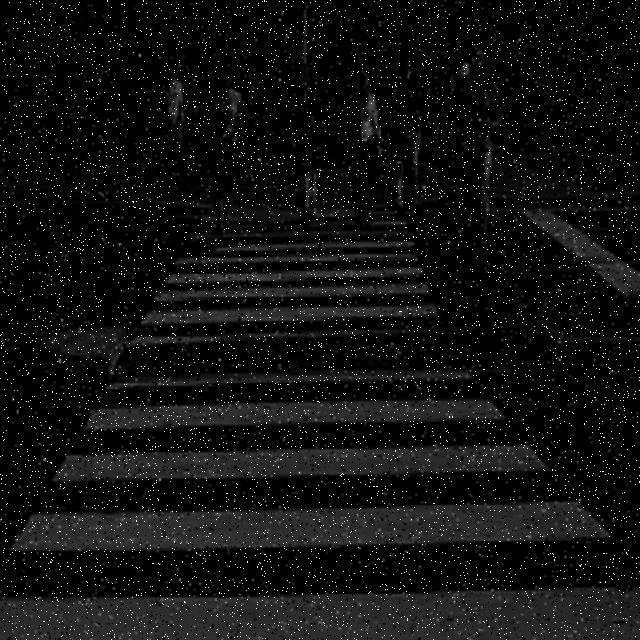crosswalk: (2, 237, 639, 640)
